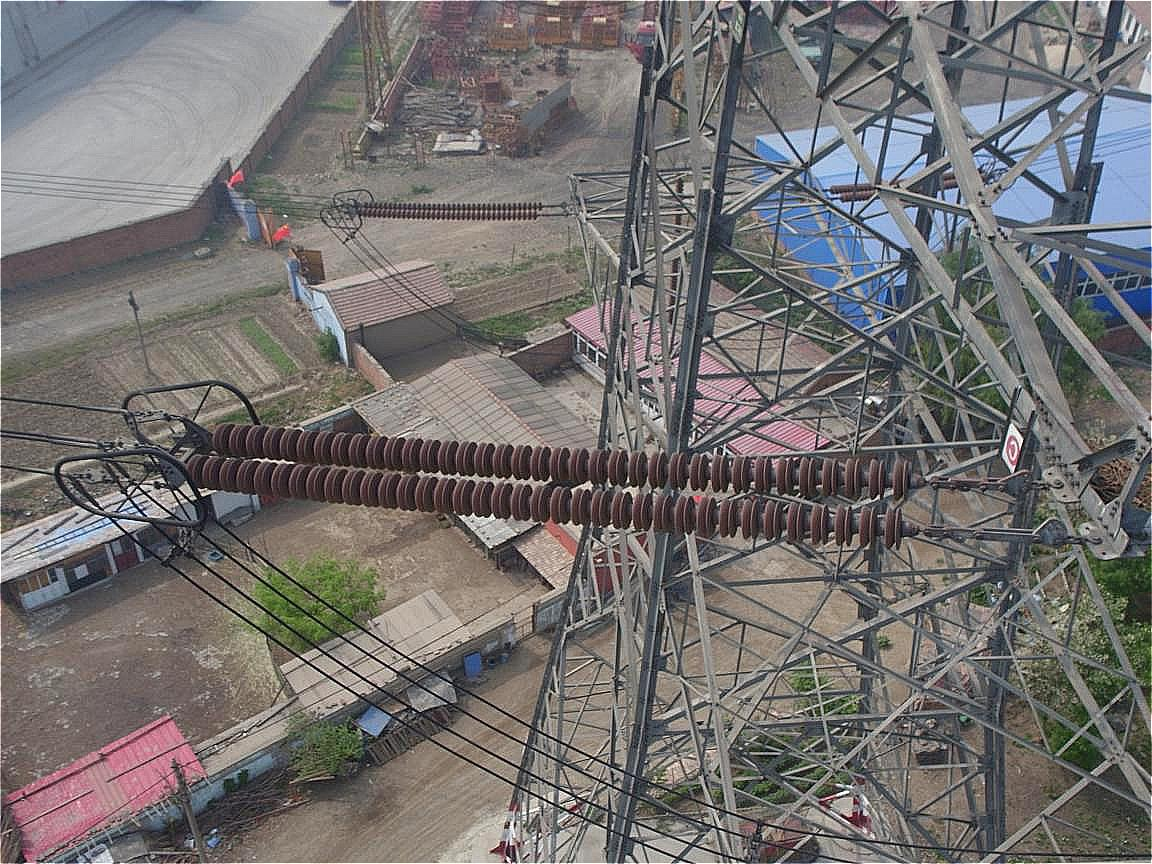insultor1: (352, 195, 556, 226)
insultor2: (162, 403, 939, 559)
